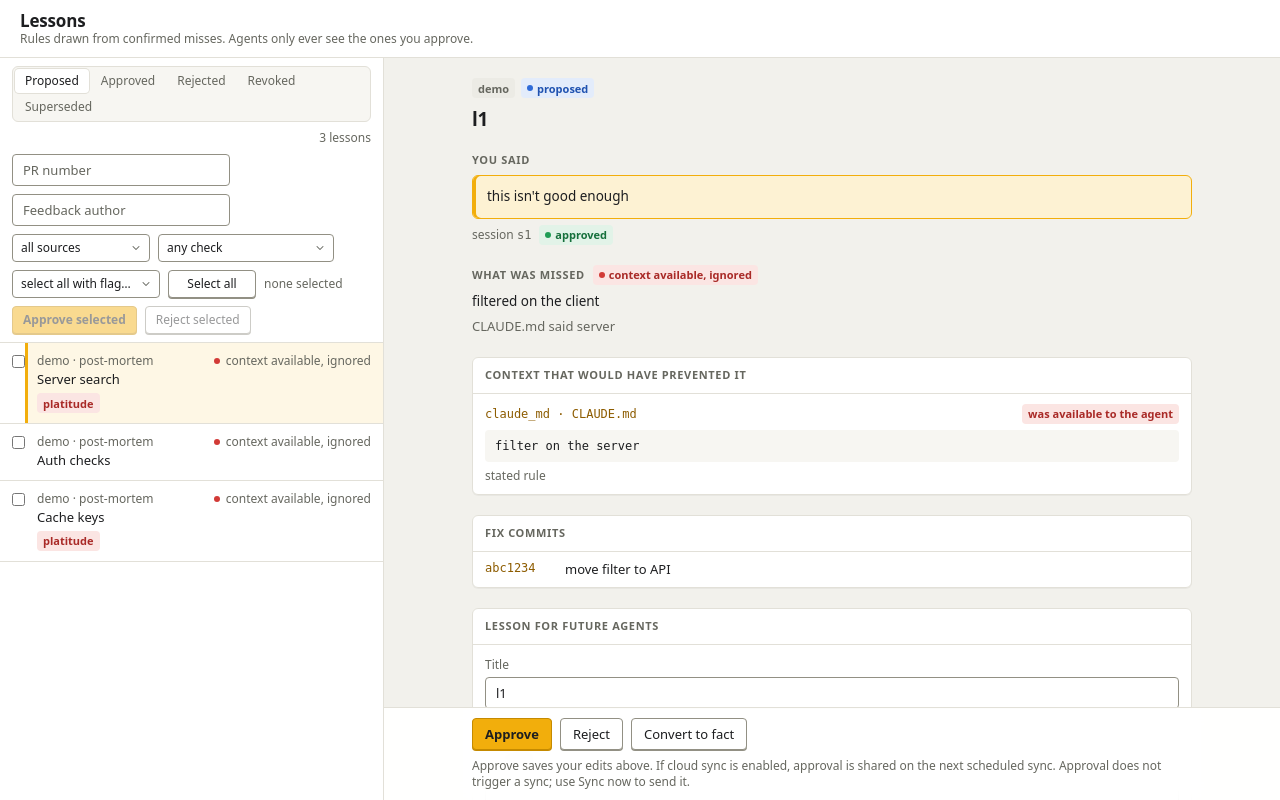
Test: select rows, Reject selected: one confirm with a note, one request, and the decided lessons leave the list
The width and height of the screenshot is (1280, 800).
Click the checkbox named "select Server search".
click(18, 362)  # box [12,355,25,368]
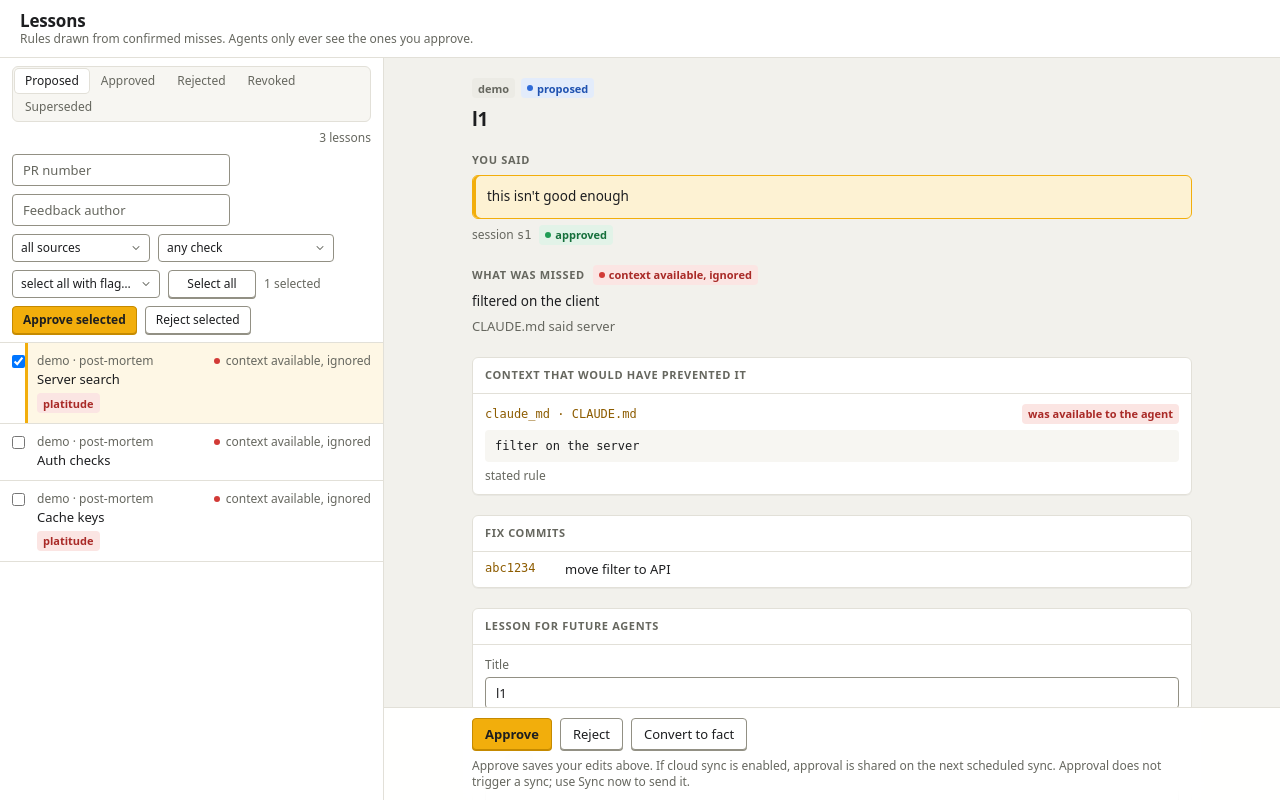
Click the checkbox named "select Cache keys".
click(18, 500)  # box [12,493,25,506]
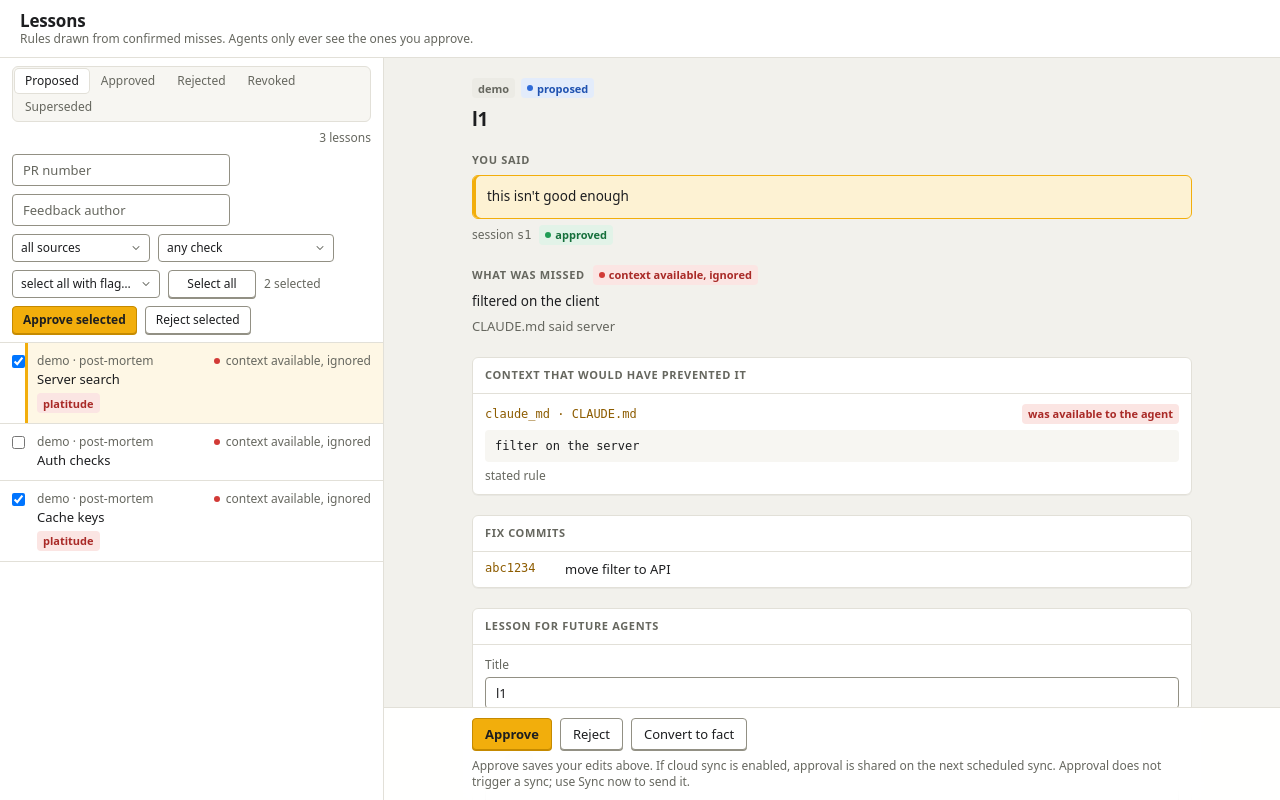
Expected: the text "2 selected" is shown, [264,275,321,292]
Click the button "Reject selected".
click(198, 320)  # box [145,306,251,334]
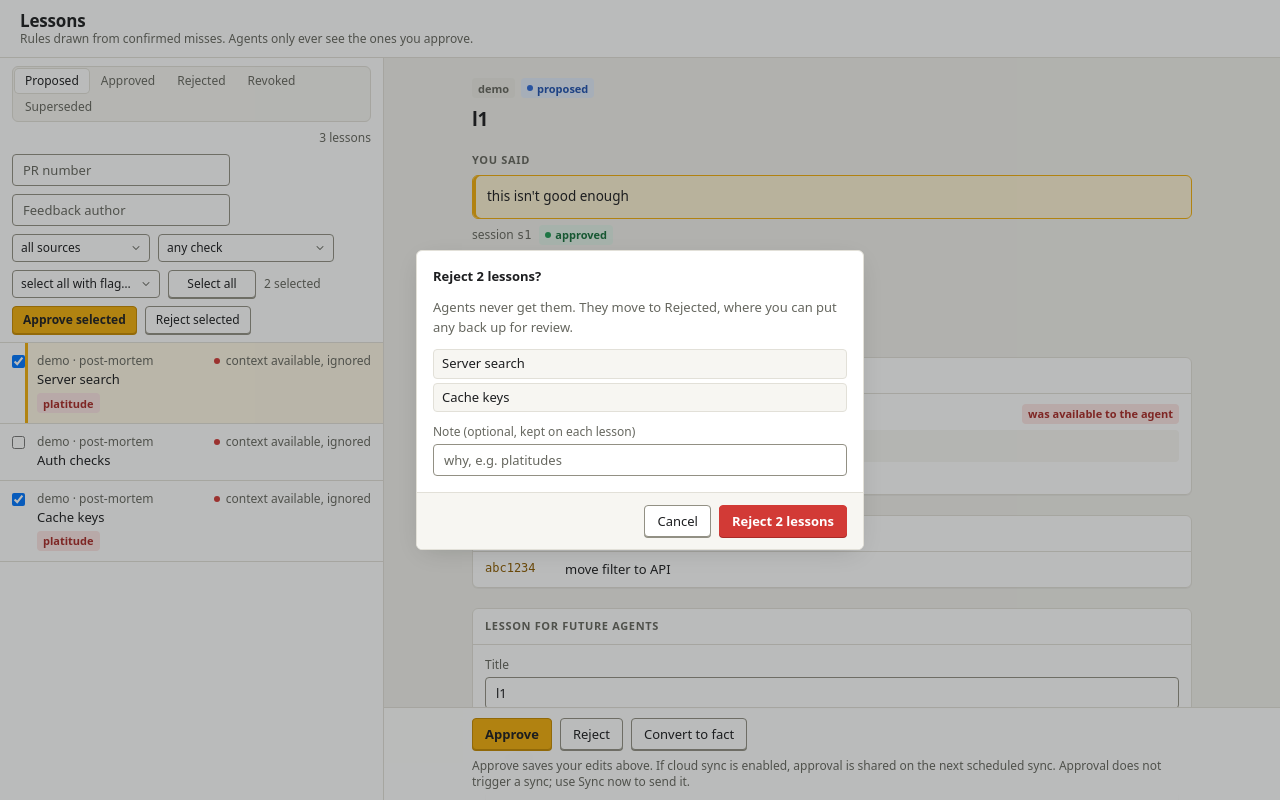
Expected: the dialog "Reject 2 lessons" shows "Server search", [442,354,525,372]
Expected: the dialog "Reject 2 lessons" shows "Cache keys", [442,388,509,406]
Type "platitudes" into the field labelled "Note".
click(640, 460); type("platitudes")  # box [433,444,847,476]
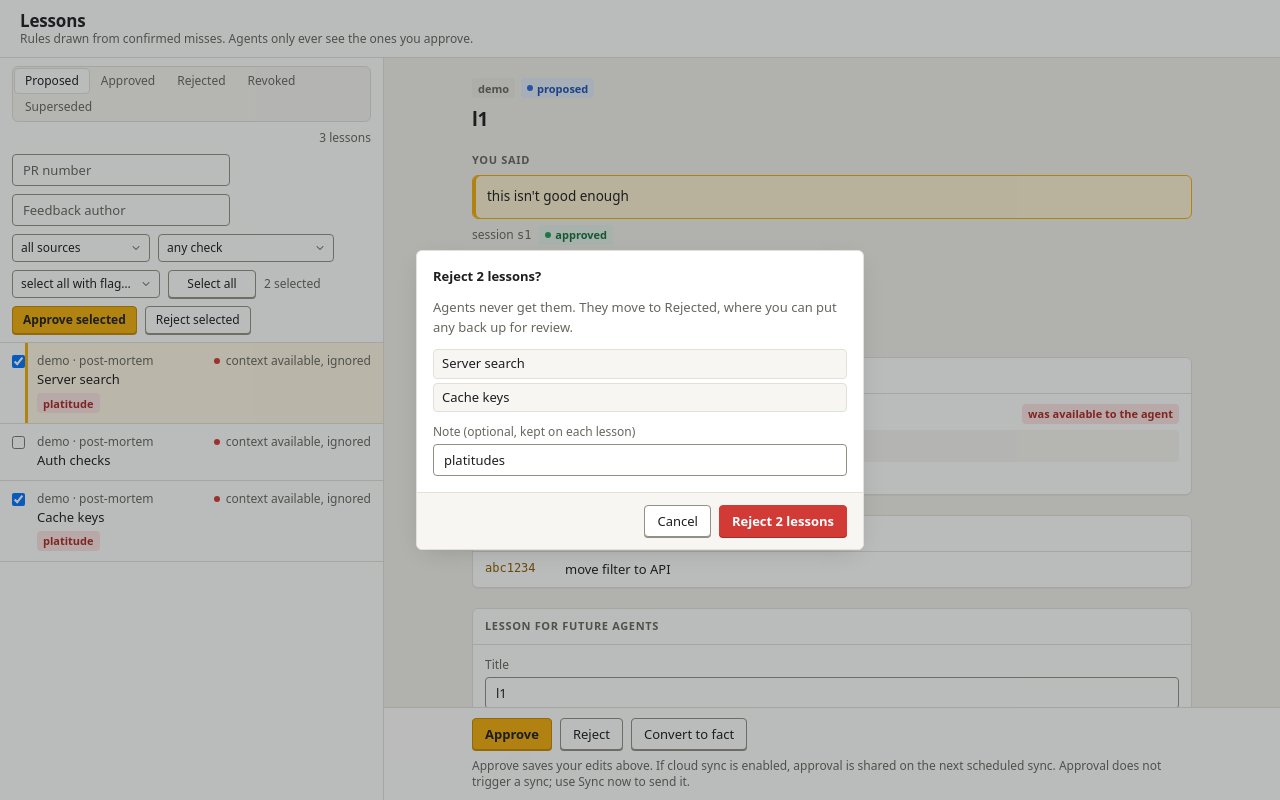
Click the button "Reject 2 lessons".
click(783, 521)  # box [719,505,847,537]
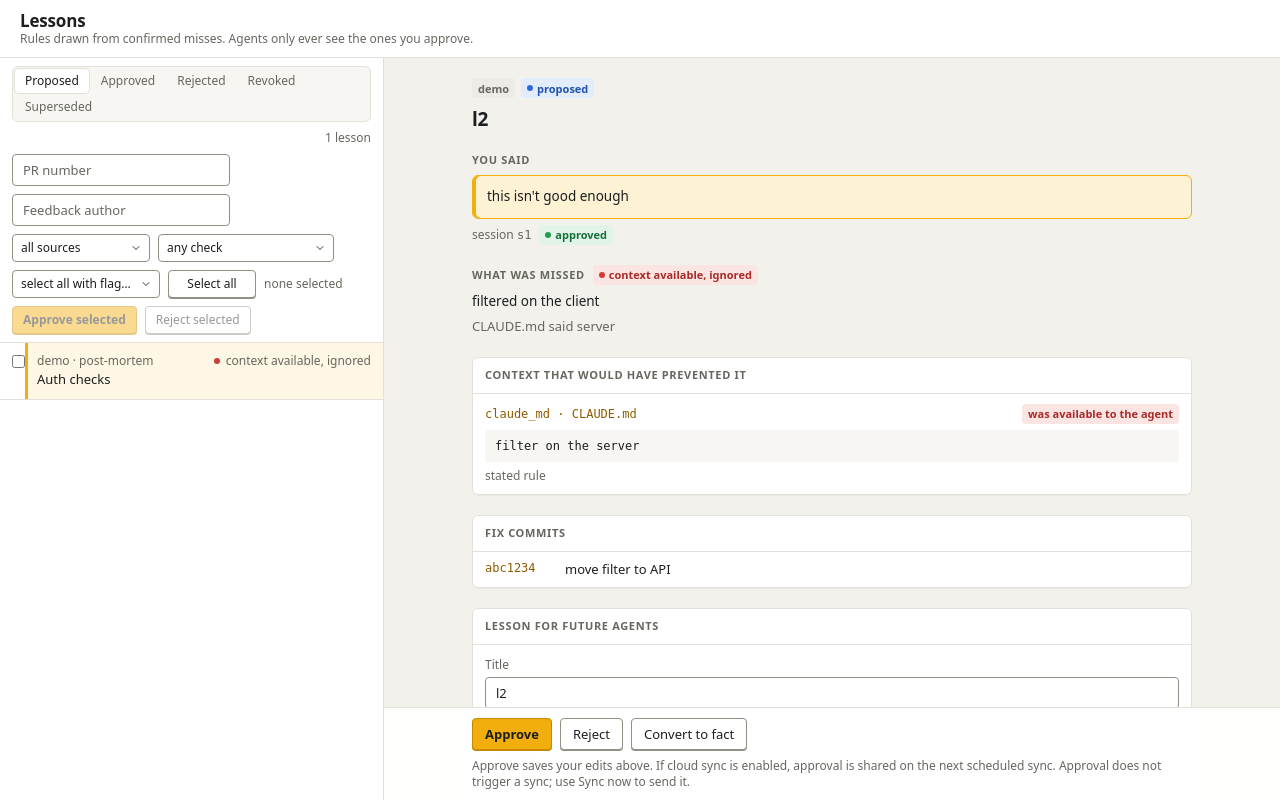
Expected: the checkbox named "select Auth checks" is shown, [12,355,25,368]
Expected: the text "none selected" is shown, [264,276,352,292]
